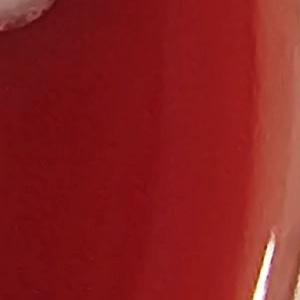colony: (0, 0, 74, 54)
